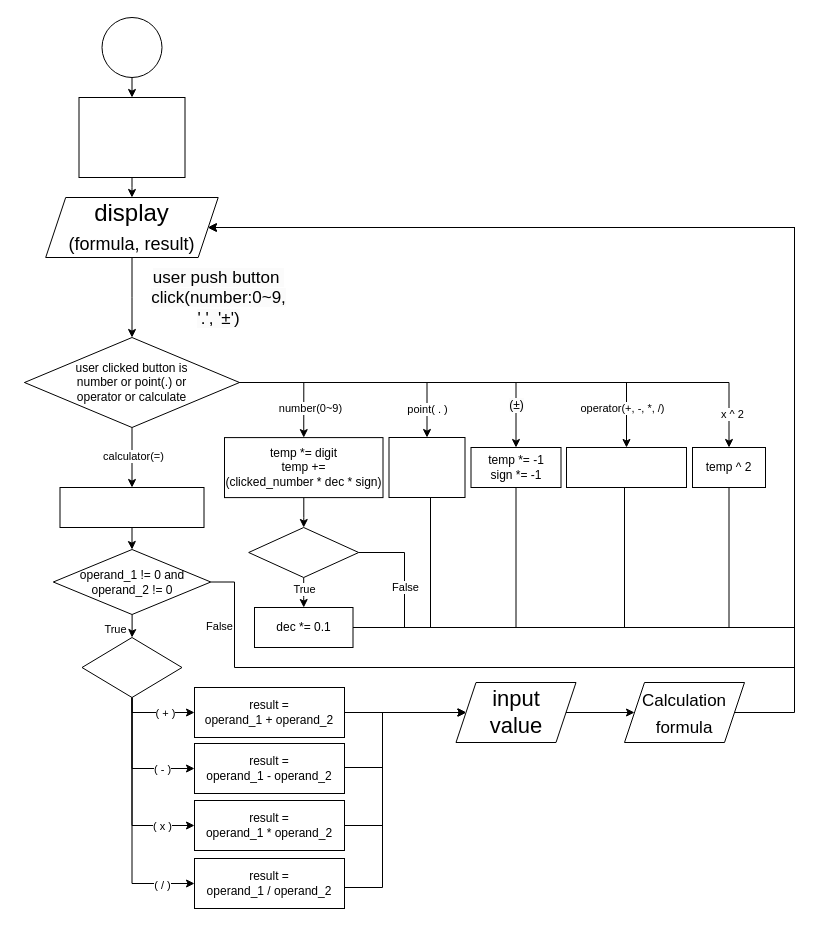
The diagram is 820 pixels wide and 926 high, and some of its shapes have lost their labels. Here are the shapes that lost their labels. From the top down, the centre of each, then its label:
At (131,137): "temp = 0 dec = 1 float_flag = 0 digit = 10 sign = 1".
At (426,467): "digit = 1 dec = 0.1 float_flag = 0".
At (626,467): "operand_1 = temp".
At (131,507): "operand_2 = temp * sign".
At (303,552): "float_flag == 0".
At (131,667): "operator".
